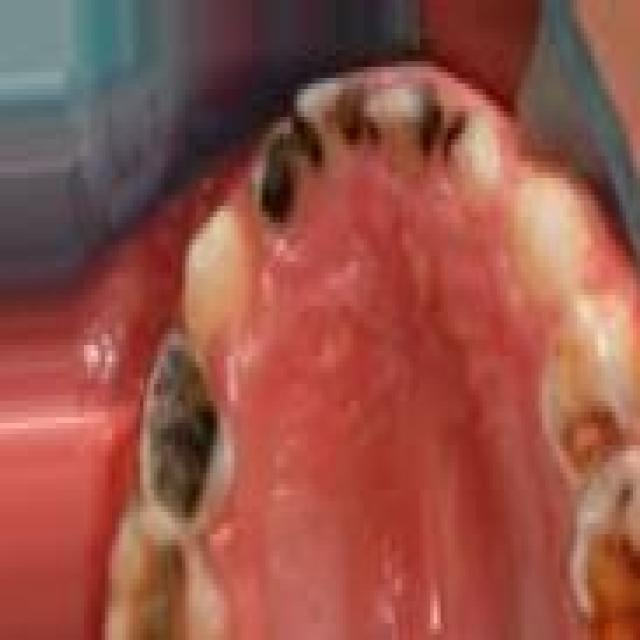caries: (139, 334, 240, 532), (547, 295, 640, 488), (109, 524, 238, 640), (562, 485, 640, 640), (369, 76, 439, 176), (250, 112, 306, 234), (300, 74, 365, 171), (440, 106, 494, 200)
